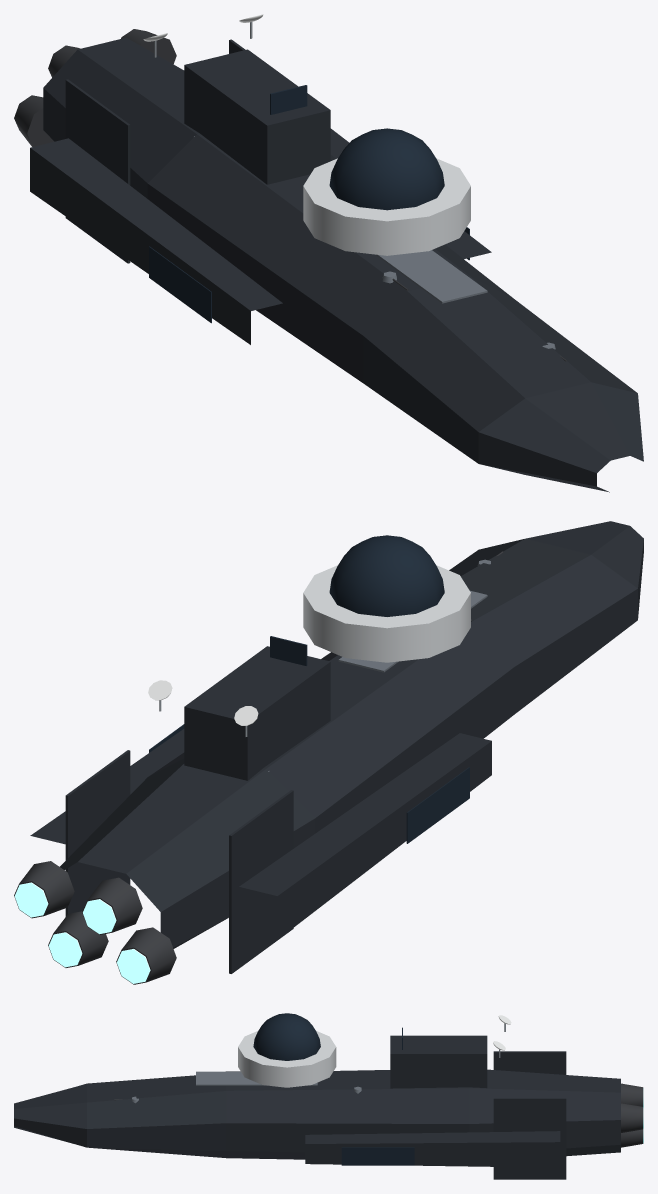
Rendered from space_ship_command_ship_mk4.glb.
3 renders of one model, top to bottom at view 1: azimuth 30°, elevation 25°; view 2: azimuth 150°, elevation 25°; view 3: azimuth 270°, elevation 25°, orthographic. The views are drawn at different scales.
Visible parts, largest first — view 1: body, hangar_r, engine_0, engine_3; view 2: body, engine_0, engine_3, engine_1, engine_2, hangar_r; view 3: body, hangar_l, engine_3, engine_1, engine_2.
Boxes of the visible parts, x1,y1,x2,y2 form: body: (30,37,643,492); hangar_r: (149,246,211,323); engine_0: (14,95,53,146); engine_3: (121,29,176,64); body: (30,521,643,973); engine_0: (116,927,176,984); engine_3: (14,861,74,918); engine_1: (82,877,142,934); engine_2: (48,911,108,967); hangar_r: (406,767,469,843); body: (14,1013,620,1179); hangar_l: (341,1147,414,1165); engine_3: (621,1103,643,1132); engine_1: (621,1083,643,1107); engine_2: (621,1128,643,1147).
Size of what is drawn, in the model's own units: 31.34 by 27.65 by 113.
